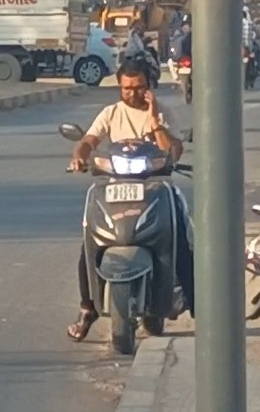BikeWithRider: (55, 53, 217, 358)
NoHelmet: (106, 55, 165, 113)
